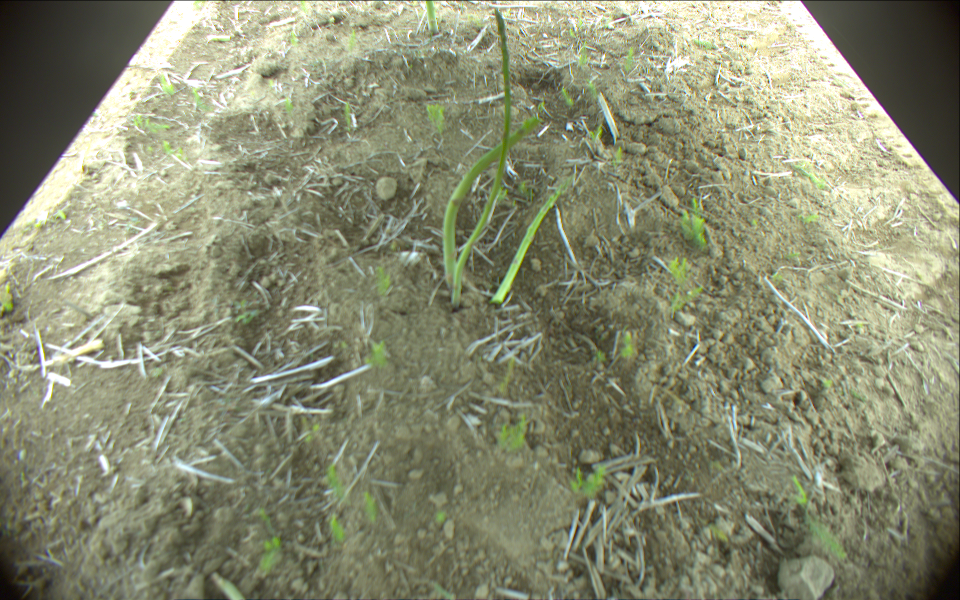aspa: (450, 7, 510, 311), (442, 115, 541, 289), (495, 177, 571, 303), (426, 1, 439, 34)
